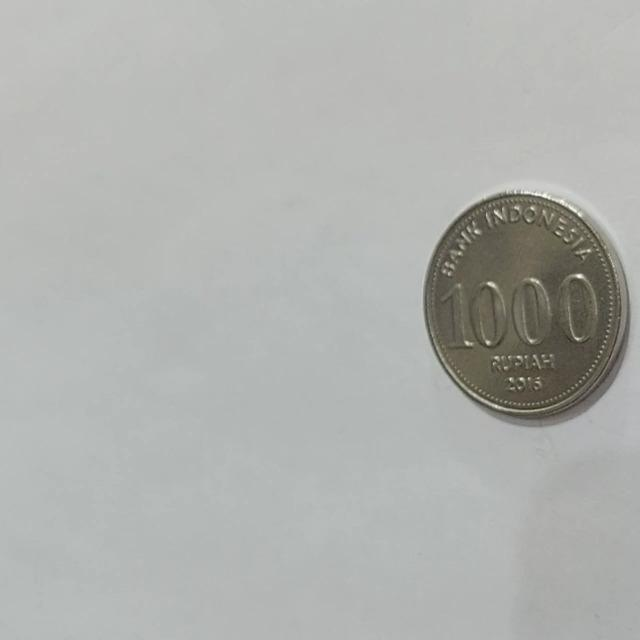Rp100: (420, 186, 629, 422)
